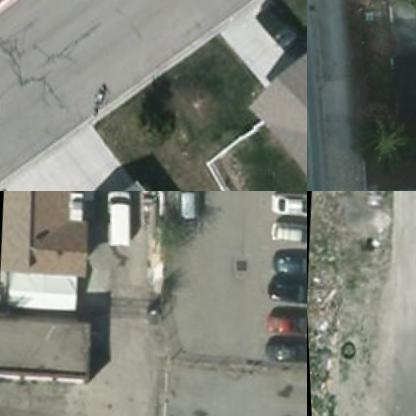car: (246, 0, 306, 67), (90, 191, 153, 239), (257, 322, 306, 383), (259, 289, 306, 351), (260, 257, 306, 319), (263, 202, 306, 264), (263, 230, 306, 291), (158, 191, 220, 231), (265, 191, 306, 235), (263, 191, 306, 206)
